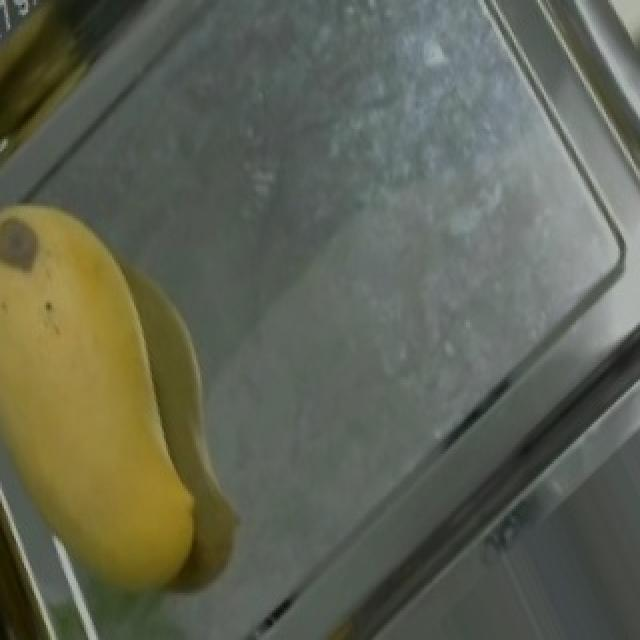fruit: (0, 161, 284, 583)
